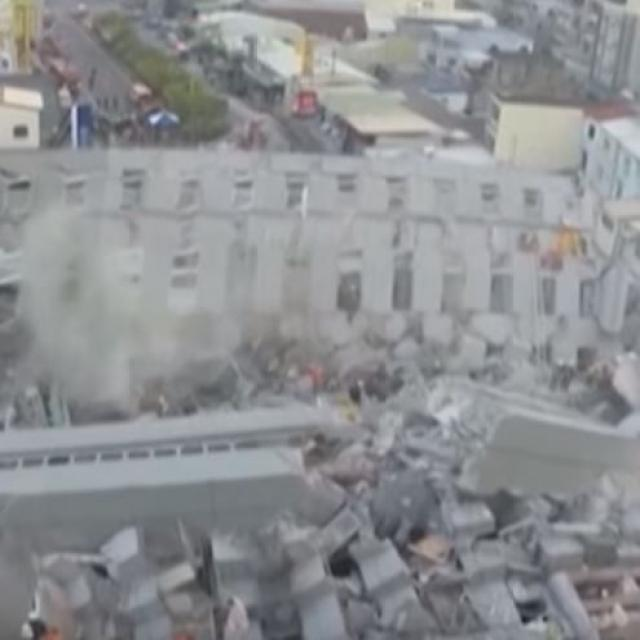collapsed_building: (0, 143, 639, 638)
